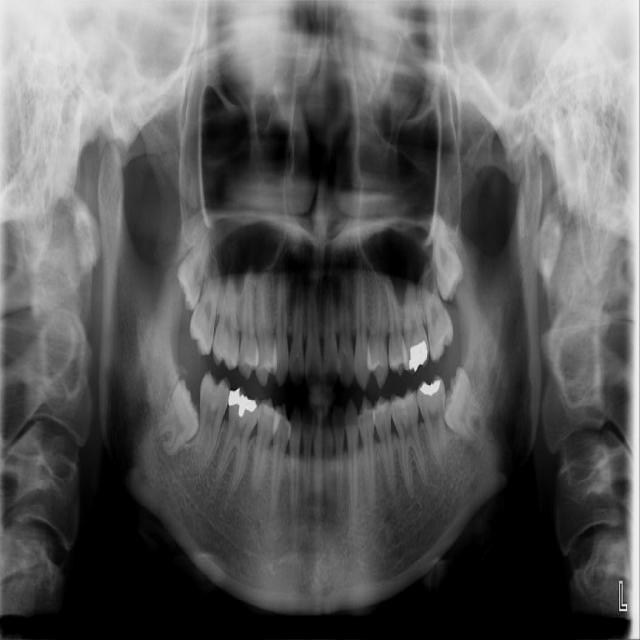Filling: (227, 388, 257, 420), (407, 341, 428, 371), (417, 377, 442, 397)
impacted tooth: (442, 368, 492, 459), (153, 381, 197, 455), (431, 215, 462, 300), (178, 231, 210, 306)
